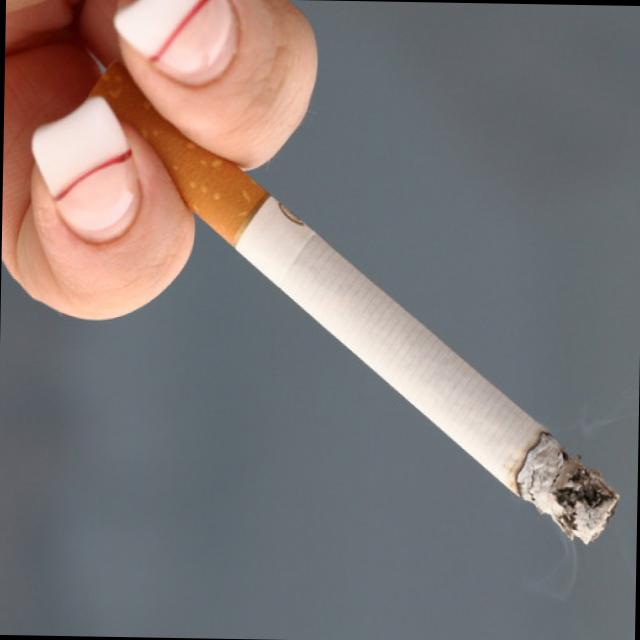smoke: (80, 59, 628, 550)
